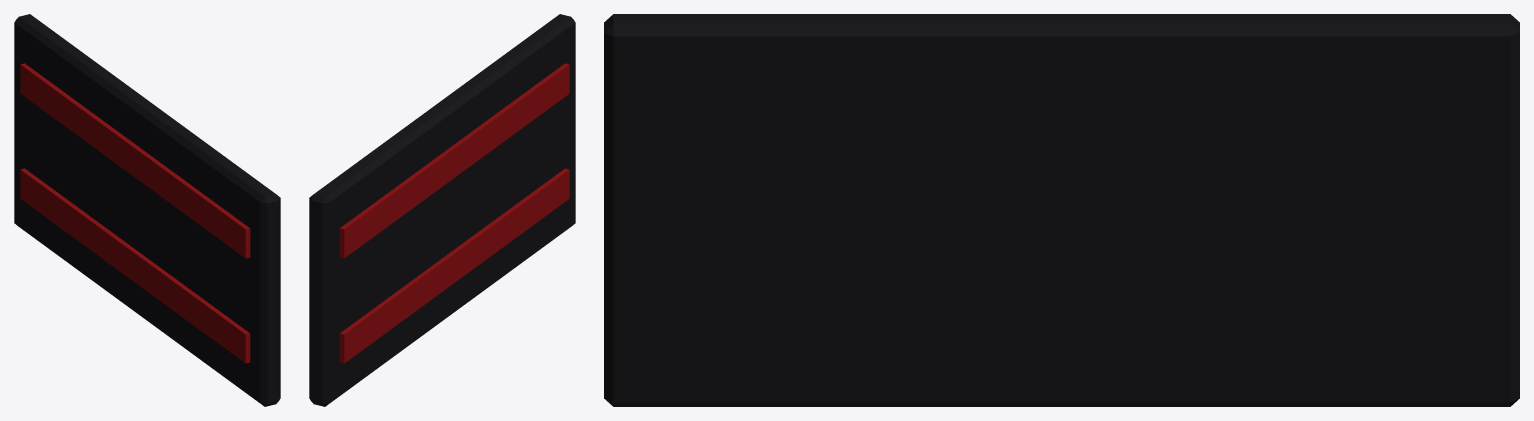
File: destroyer_hangar_door.glb
The picture shows the model from 3 angles, left to right: view 1: azimuth 30°, elevation 25°; view 2: azimuth 150°, elevation 25°; view 3: azimuth 270°, elevation 25°; orthographic projection. The views are drawn at different scales.
Parts seen in each view (by area): view 1: Door, DoorStripe, DoorStripe2; view 2: Door, DoorStripe, DoorStripe2; view 3: Door.
Boxes of the visible parts, left/top/right/bottom form: Door: left=14, top=14, right=280, bottom=406; DoorStripe: left=20, top=63, right=250, bottom=258; DoorStripe2: left=20, top=168, right=250, bottom=363; Door: left=309, top=14, right=575, bottom=406; DoorStripe: left=339, top=63, right=569, bottom=258; DoorStripe2: left=339, top=168, right=569, bottom=363; Door: left=604, top=14, right=1519, bottom=406.
Bounding box in the file's own units: 2.2 × 18 × 39.
